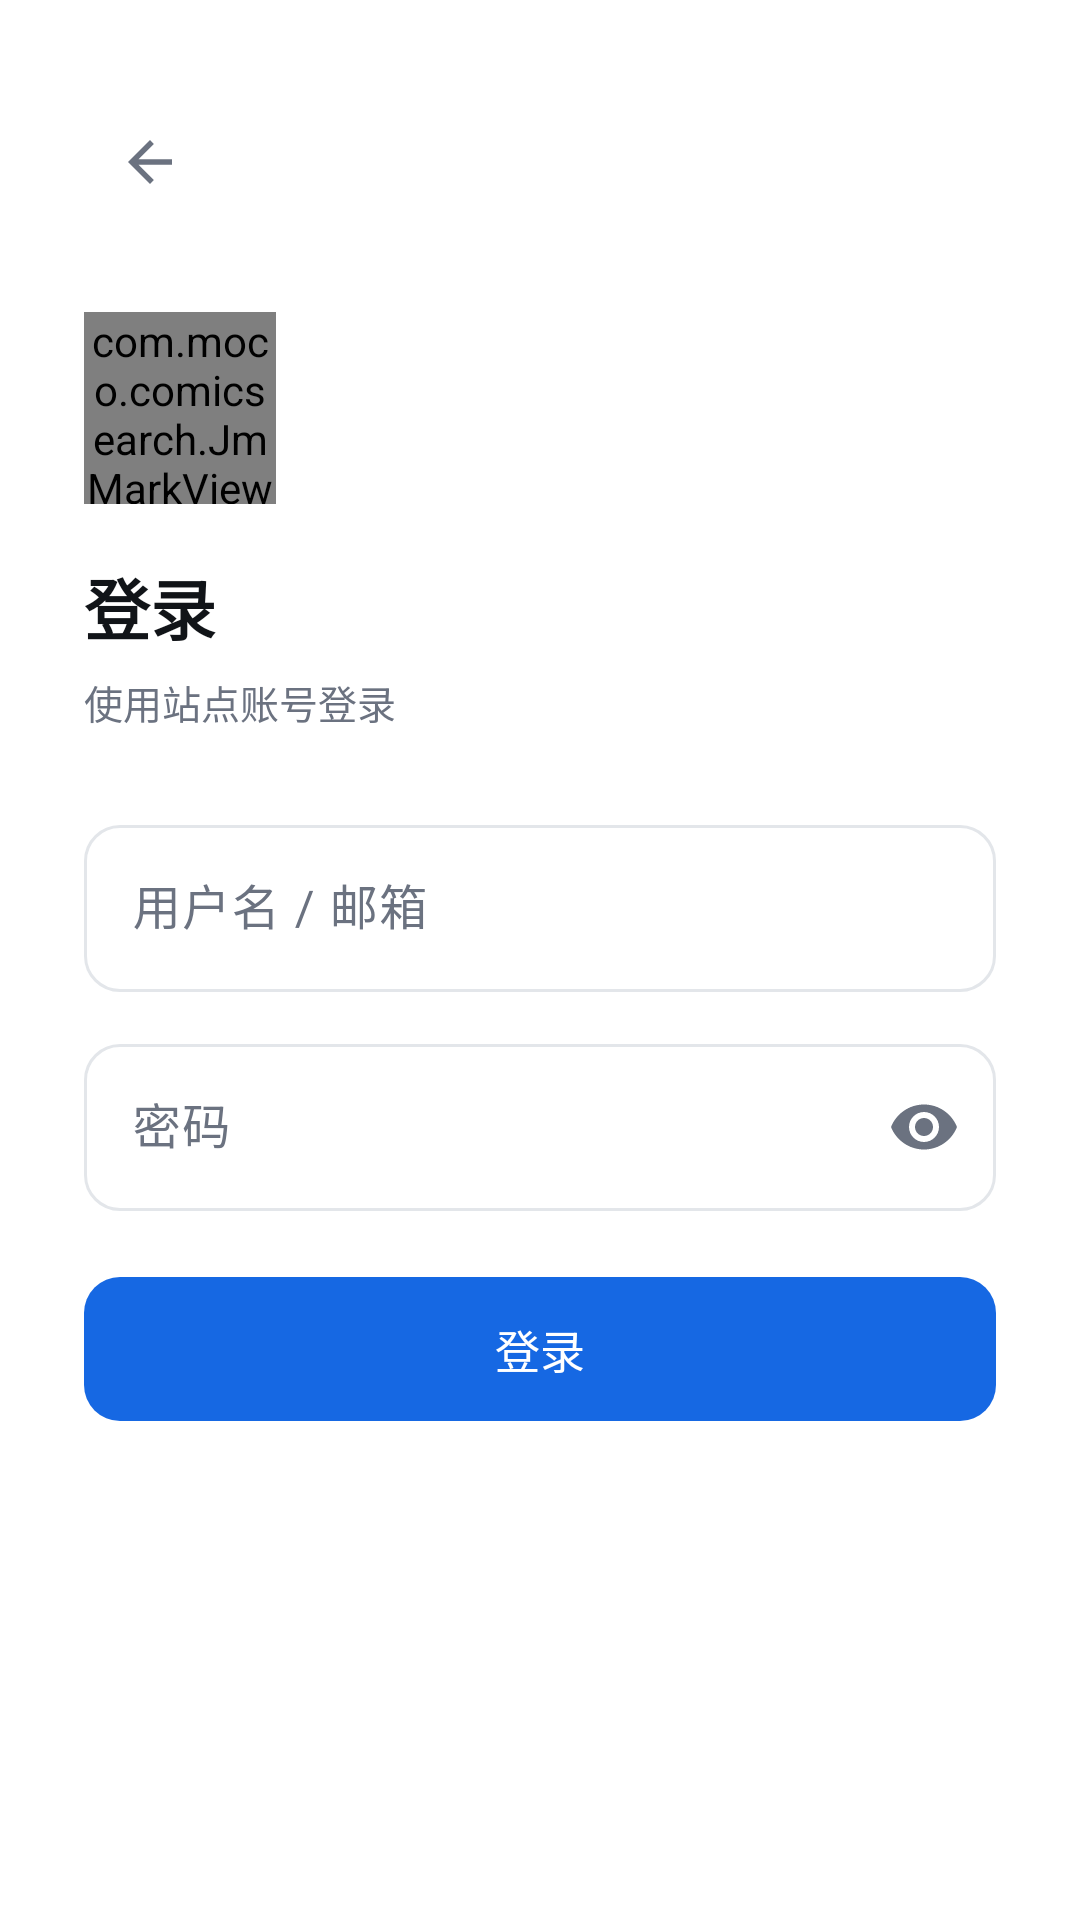

Icon click points for this 1080 × 1920 phone screenshot, format (x=x, y=y):
返回: (x=150, y=162)
